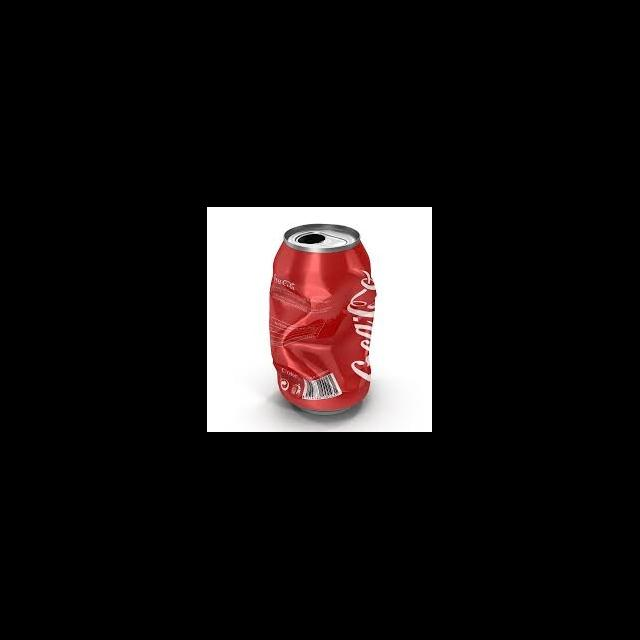metal: (258, 218, 384, 420)
